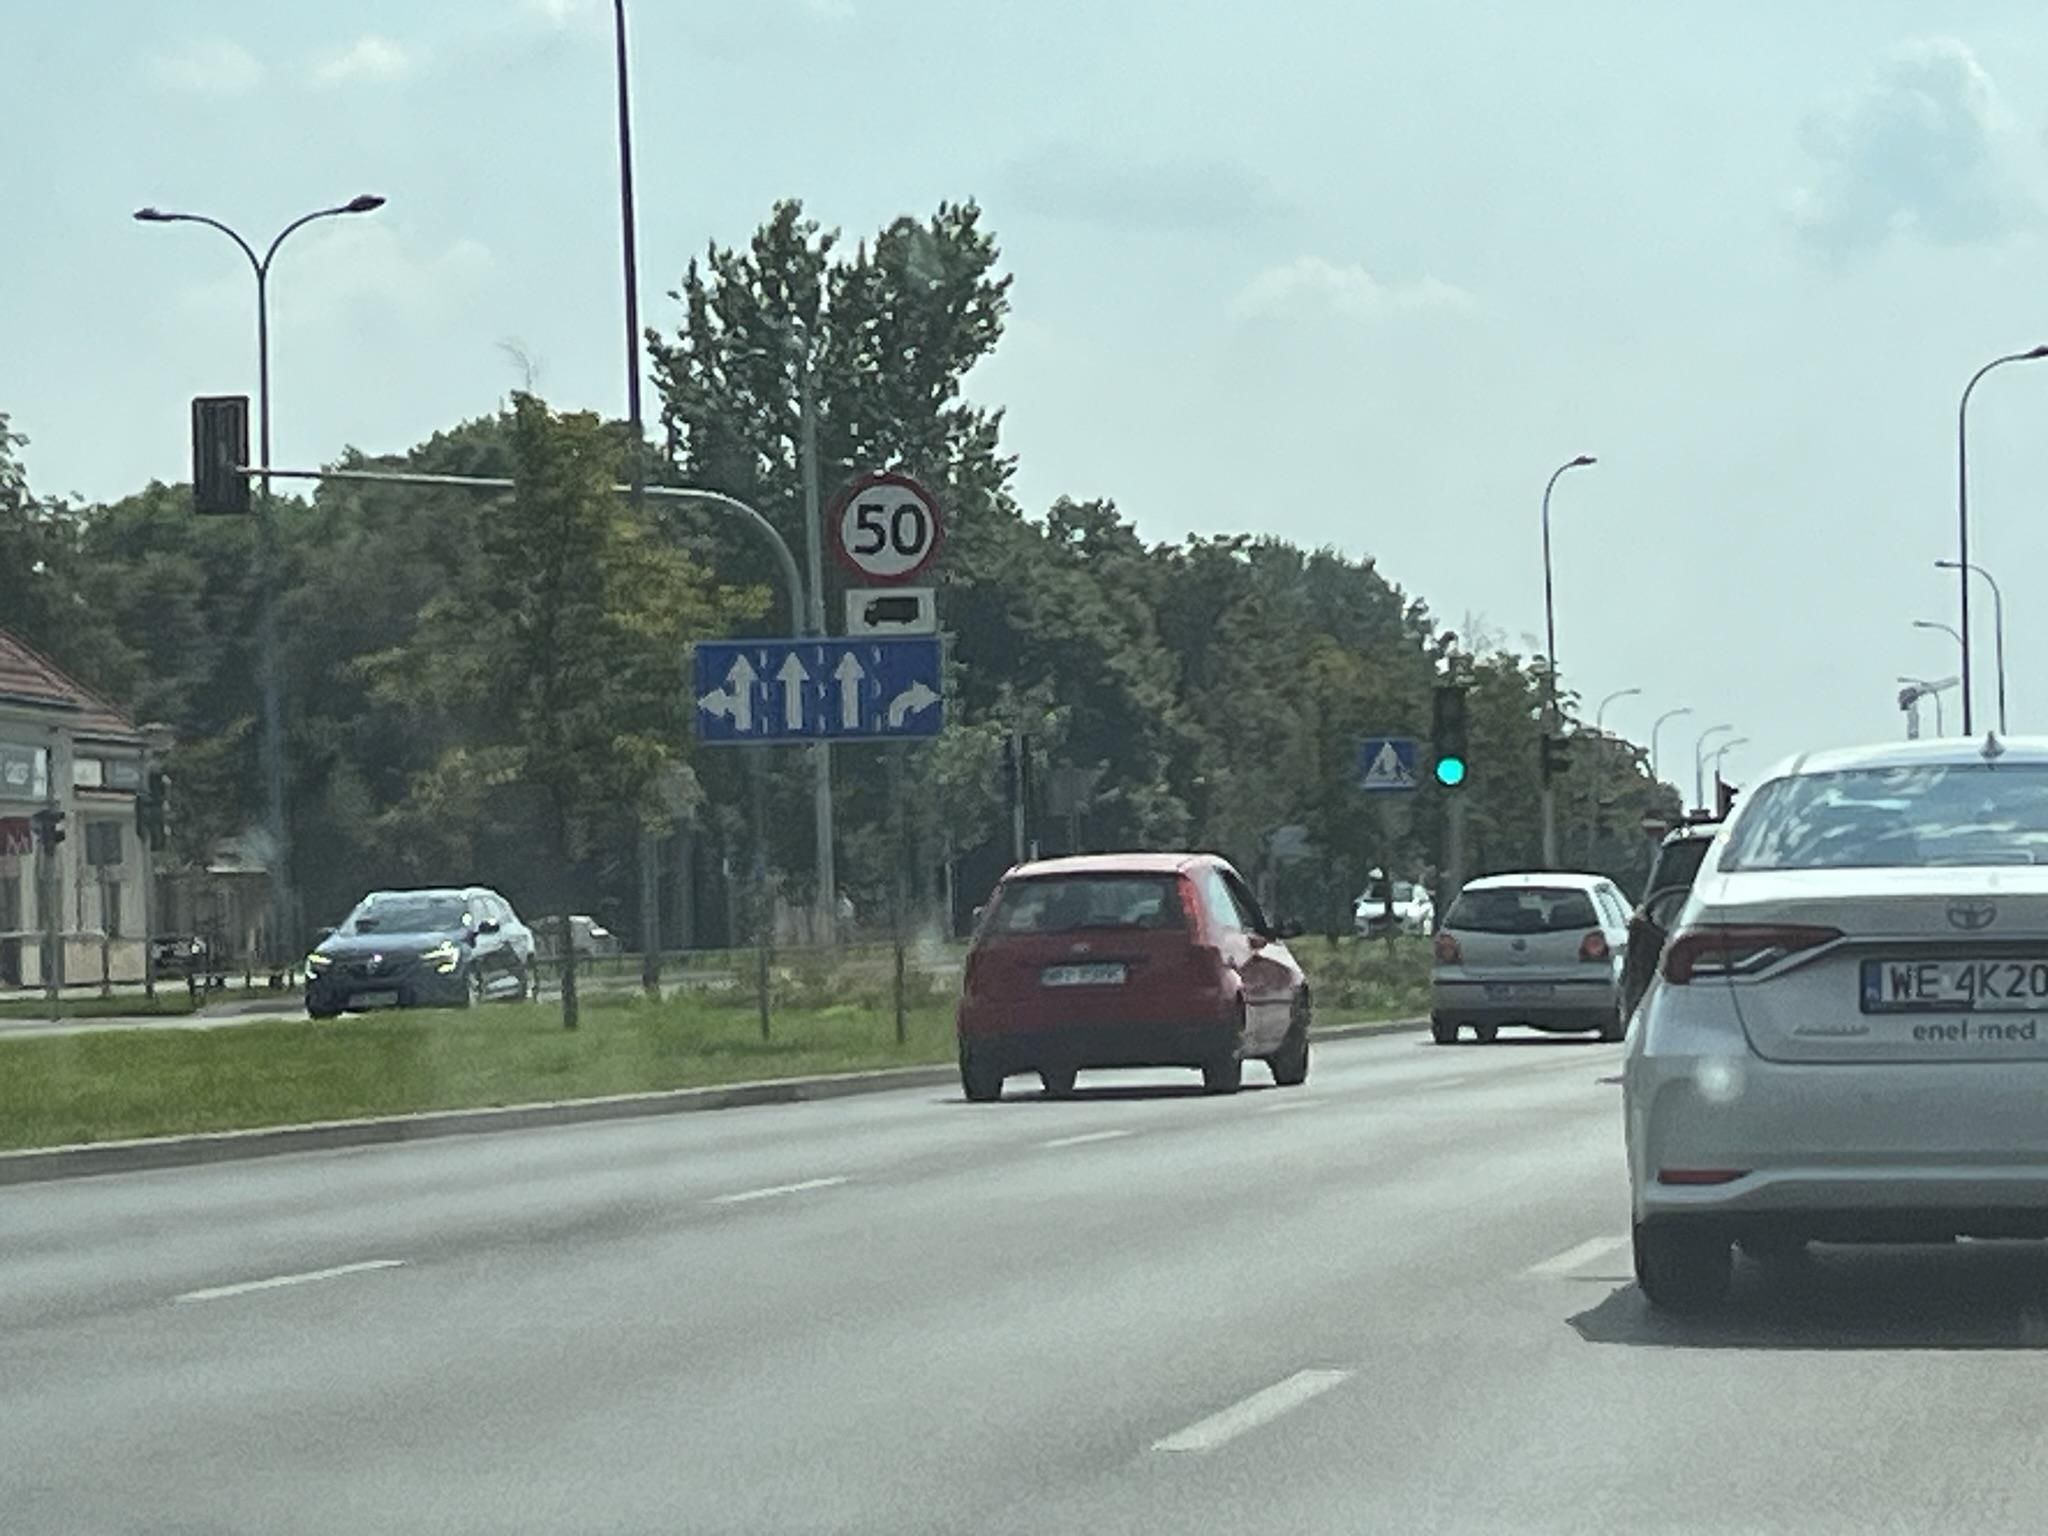information: (1364, 739, 1414, 792)
other: (698, 642, 940, 742), (847, 591, 937, 636)
prohibitory: (829, 473, 945, 587)
